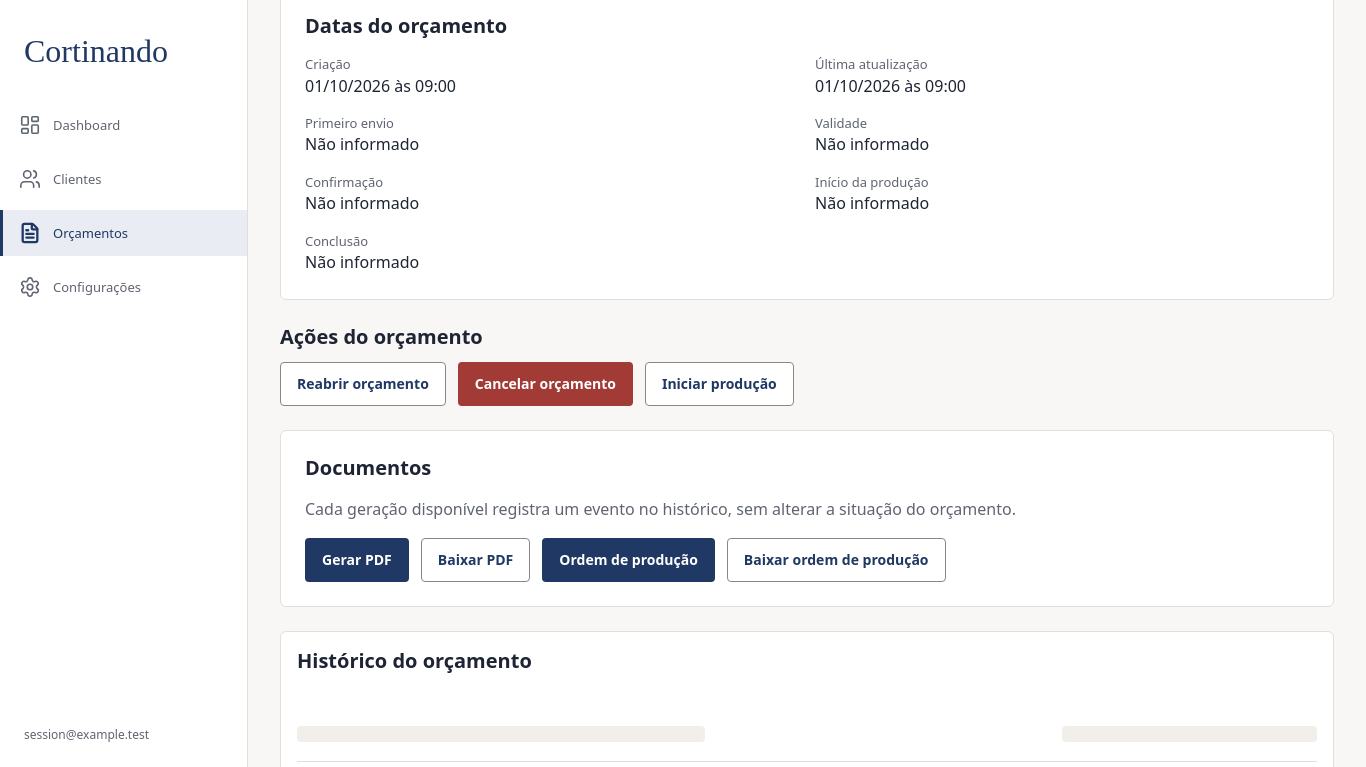
Test: CONFIRMED Iniciar produção requires confirmation and replaces detail from its dedicated endpoint
The width and height of the screenshot is (1366, 767).
(page scrolled)
Click the button "Iniciar produção": (719, 384) [645, 362, 794, 406]
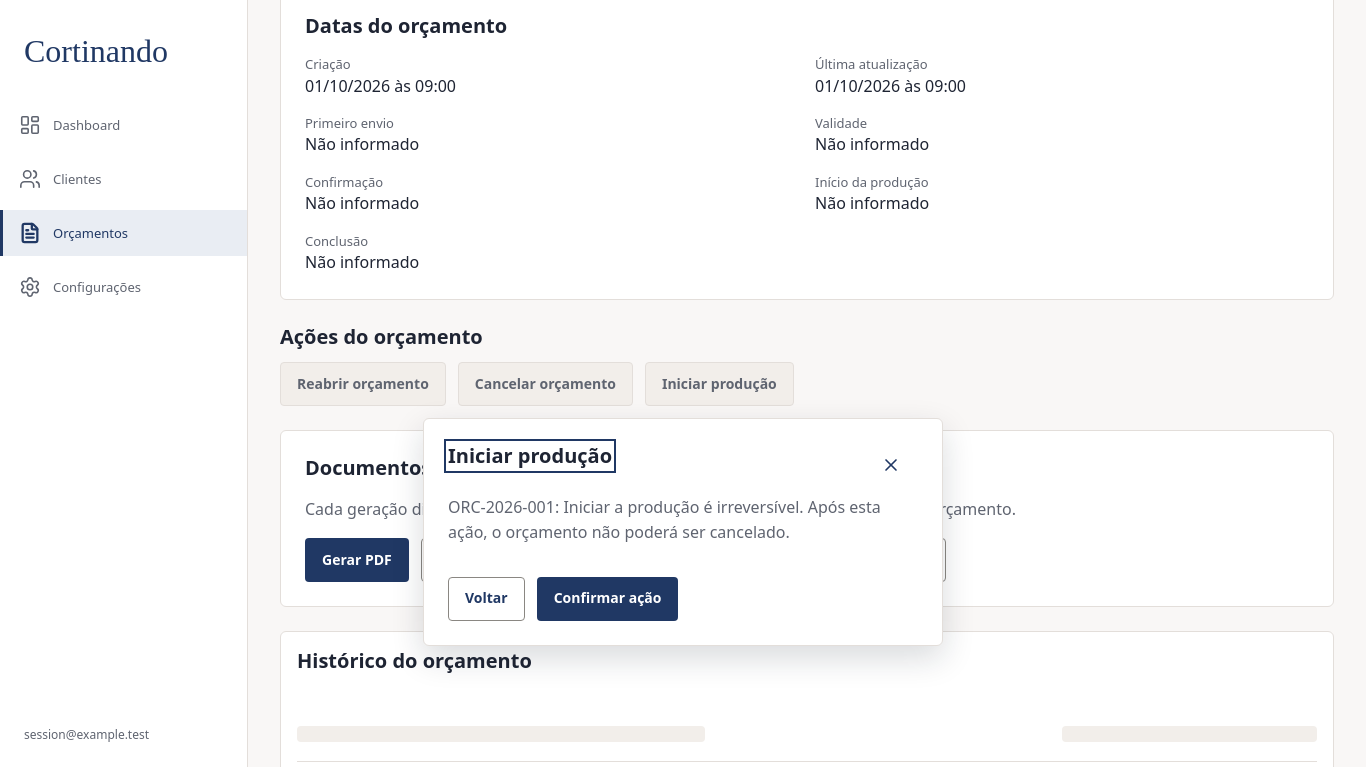
Result: the dialog shows "ORC-2026-001" at [448, 496, 881, 543]
Click the button "Confirmar ação": (608, 599) [537, 577, 678, 621]
(page scrolled)
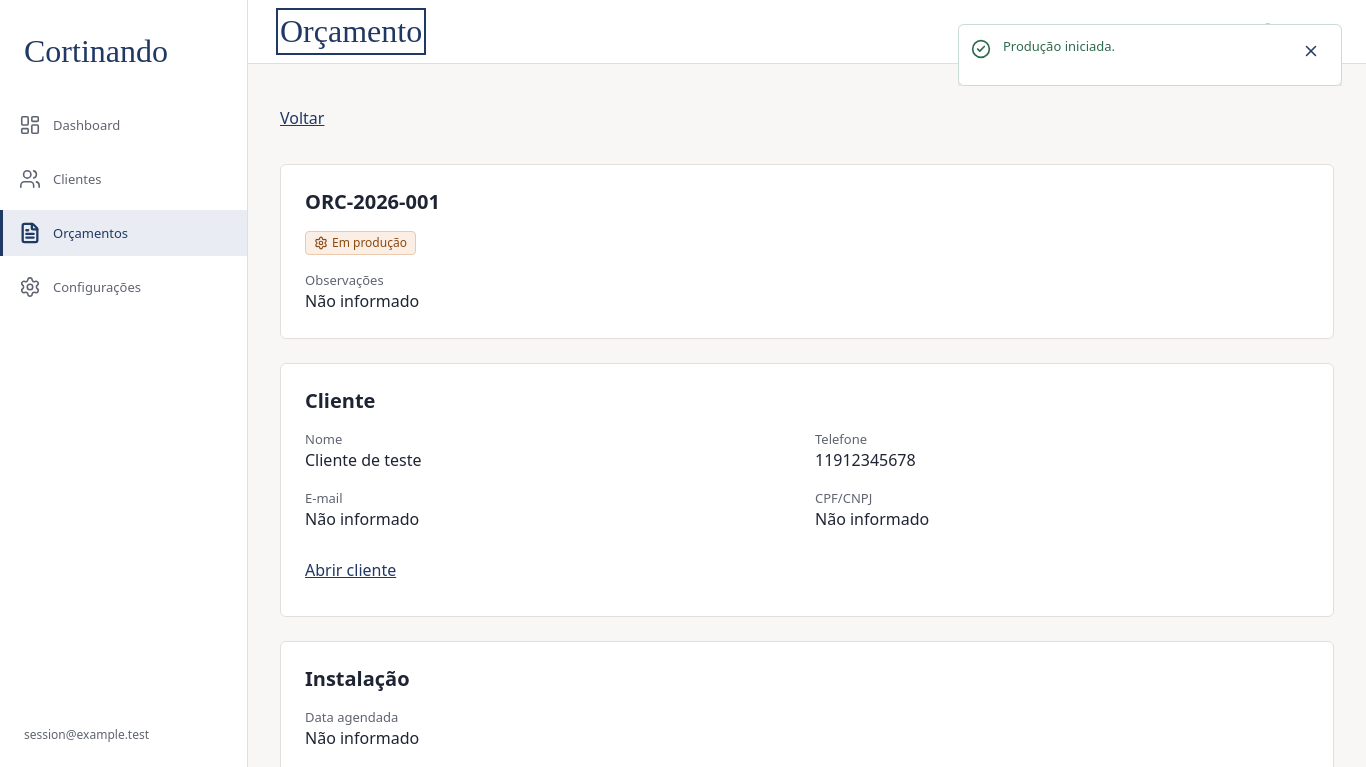
Result: the dialog is gone
Result: the element named "Resumo do orçamento" shows "Em produção" at [332, 234, 407, 251]
